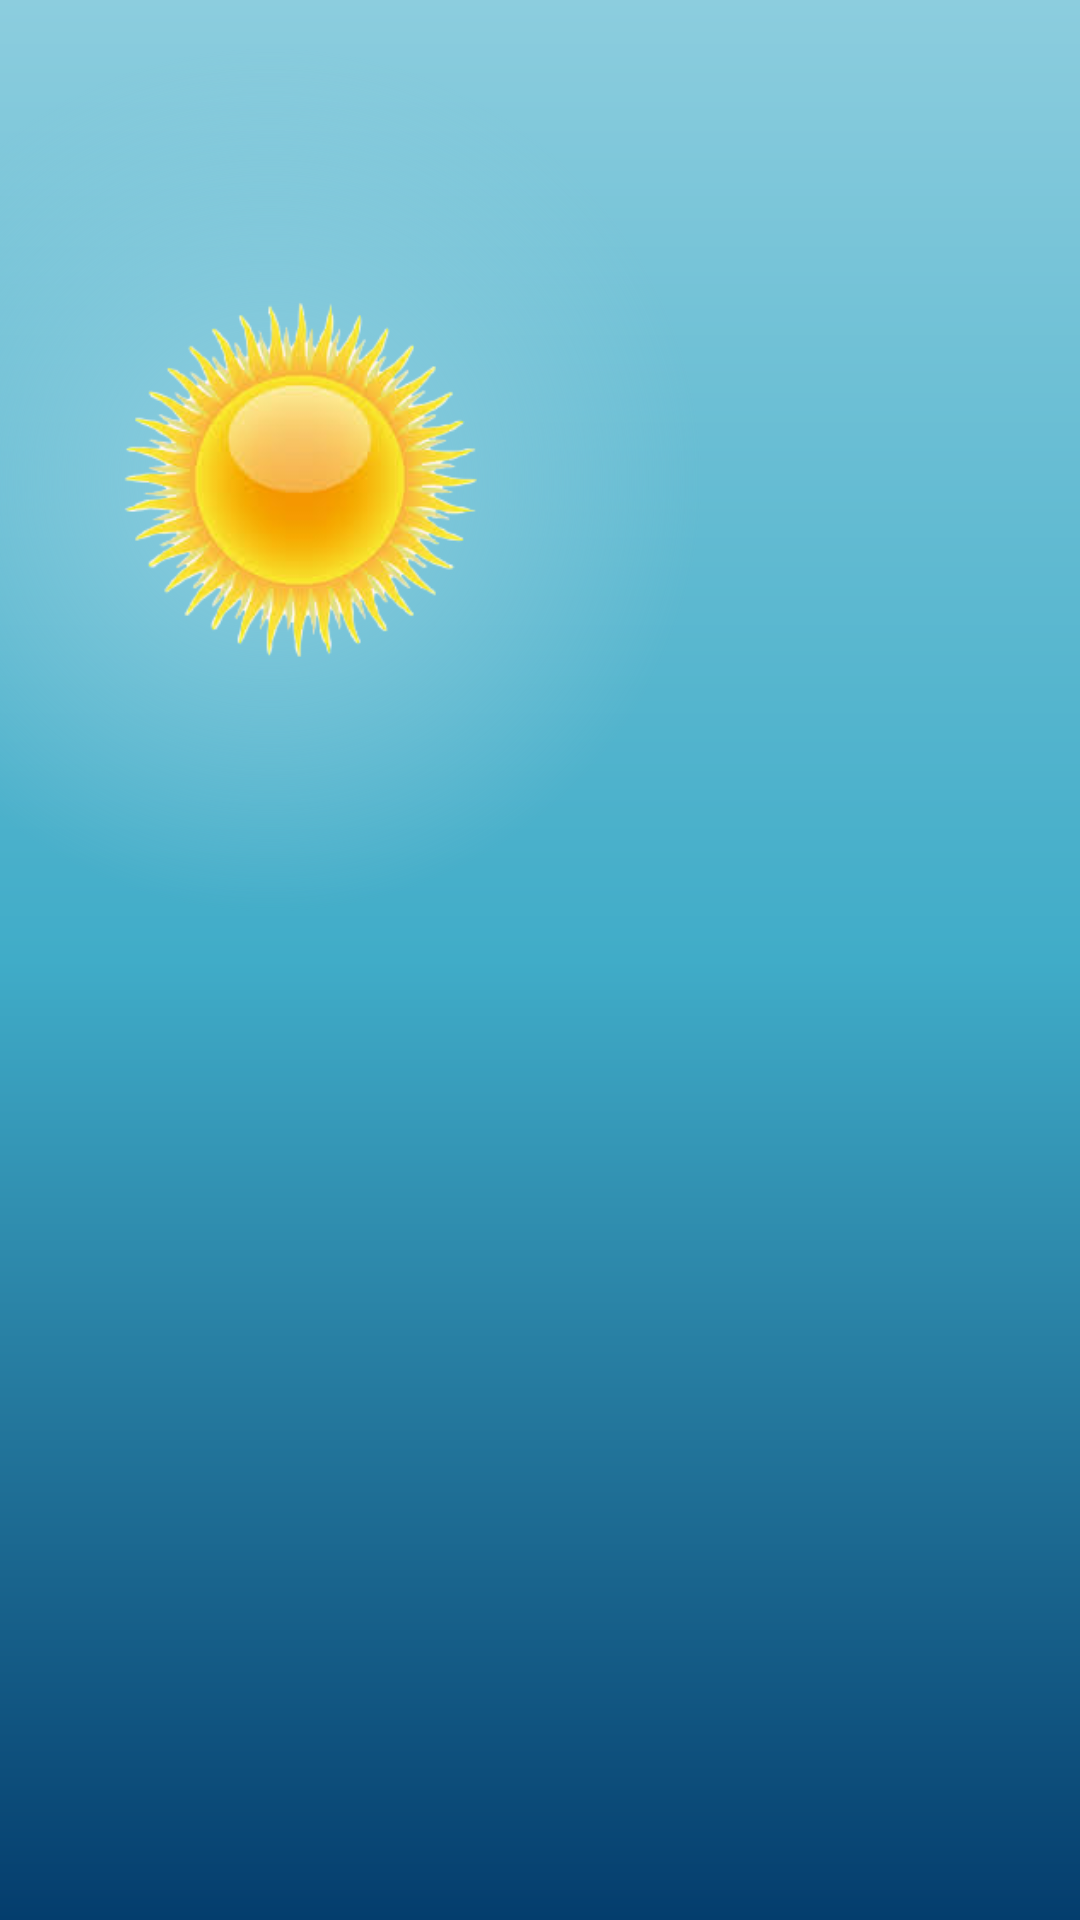

Icon click points for this 1080w x 1920h phone screenshot, format point (x, y):
sun real: point (301, 480)
